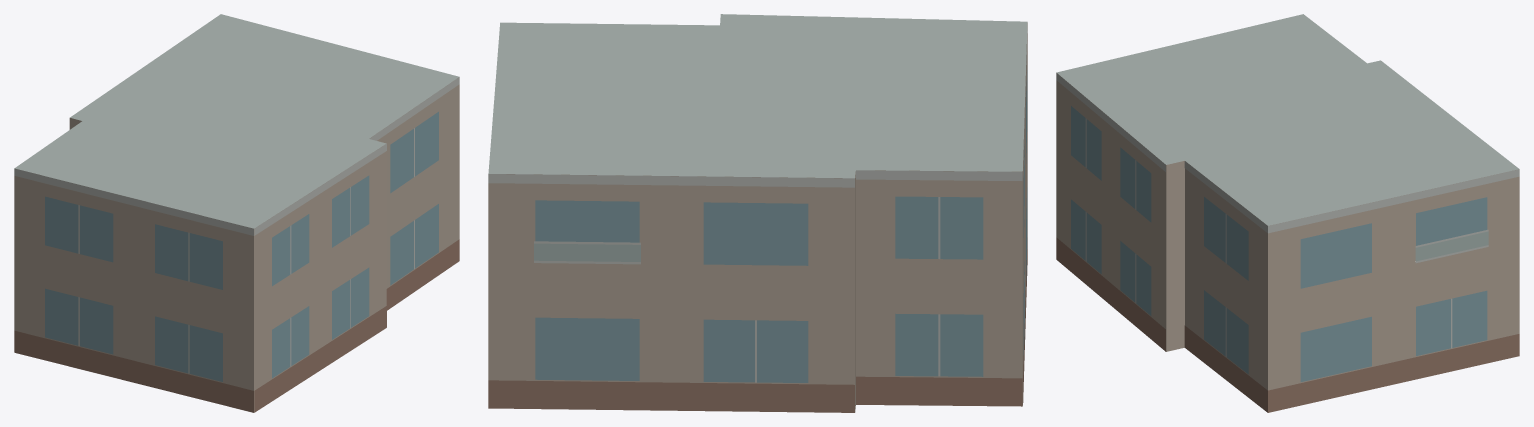
The model's file is survey-upis-32780287.glb.
3 views of the same model, side by side, from view 1: azimuth 30°, elevation 25°; view 2: azimuth 150°, elevation 25°; view 3: azimuth 270°, elevation 25° (orthographic). The views are drawn at different scales.
Visible parts, largest first — view 1: survey-upis-32780287.tmp; view 2: survey-upis-32780287.tmp; view 3: survey-upis-32780287.tmp.
Boxes of the visible parts, x1=… form: survey-upis-32780287.tmp: x1=14, y1=14, x2=459, y2=412; survey-upis-32780287.tmp: x1=488, y1=14, x2=1027, y2=412; survey-upis-32780287.tmp: x1=1056, y1=14, x2=1519, y2=412.
Size of the model in its own units: 14.84 by 6.1 by 13.71.
